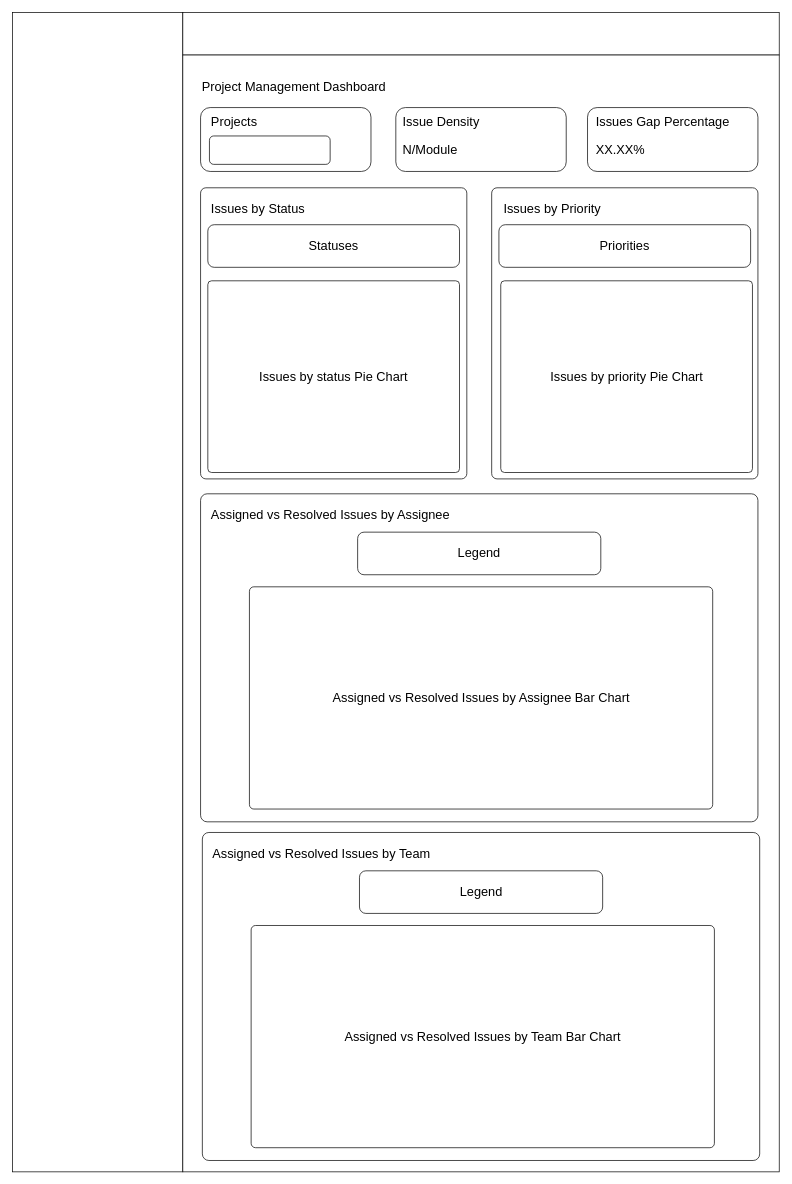
Image size: 792x1184. Some labels were removed from this diagram. The shapes that lost their labels are listed below. From the top down, each one's centre as x and y in pixels, then its label:
the point at 480,33: Navigation
the point at 269,149: Projects_list
the point at 97,592: Toolbar
